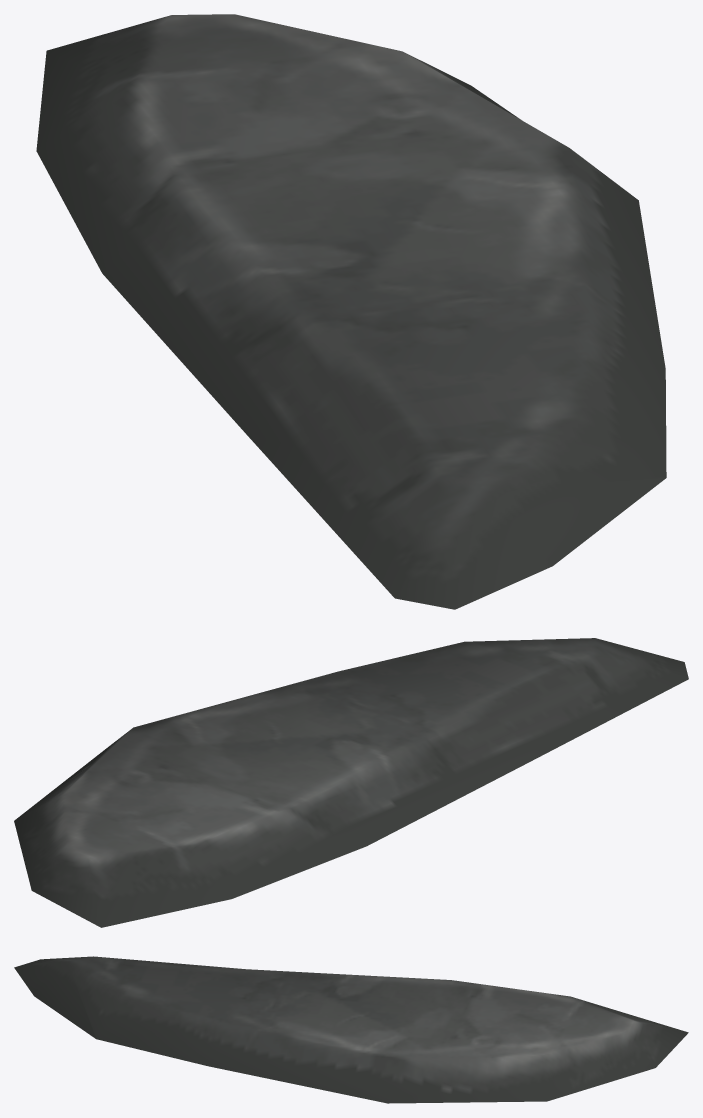
The model's file is yw_zhaoze_stones_004.FBX.
3 views of the same model, one above another, from view 1: azimuth 30°, elevation 25°; view 2: azimuth 150°, elevation 25°; view 3: azimuth 270°, elevation 25° (orthographic). The views are drawn at different scales.
Parts seen in each view (by area): view 1: yw_zhaoze_stones_004; view 2: yw_zhaoze_stones_004; view 3: yw_zhaoze_stones_004.
Boxes of the visible parts, x1,y1,x2,y2 form: yw_zhaoze_stones_004: (36,14,666,609); yw_zhaoze_stones_004: (14,638,688,927); yw_zhaoze_stones_004: (14,956,688,1103).
Bounding box in the file's own units: 330 × 654 × 29.74.
